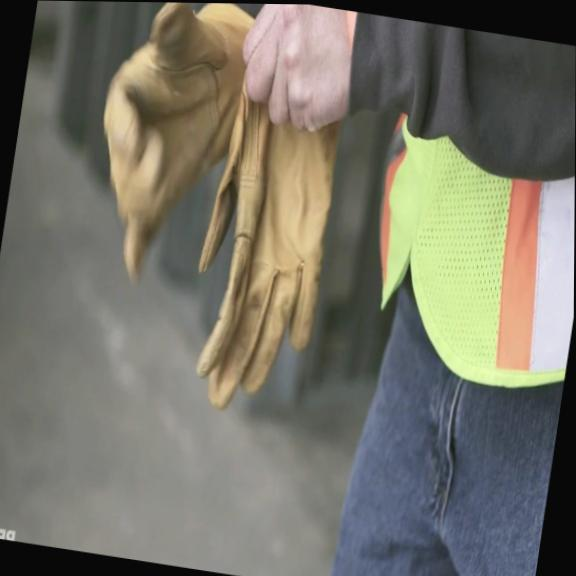safety_vest: (354, 90, 575, 399)
